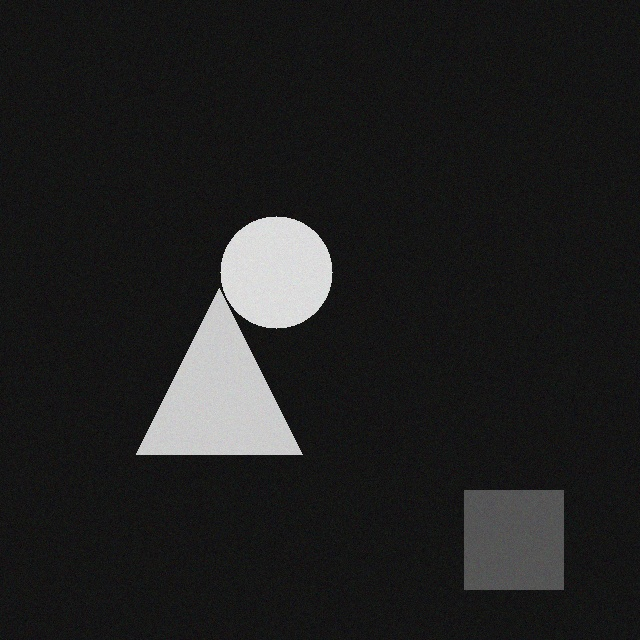circle: (216, 208, 328, 320)
square: (460, 482, 559, 581)
triangle: (132, 280, 298, 446)
